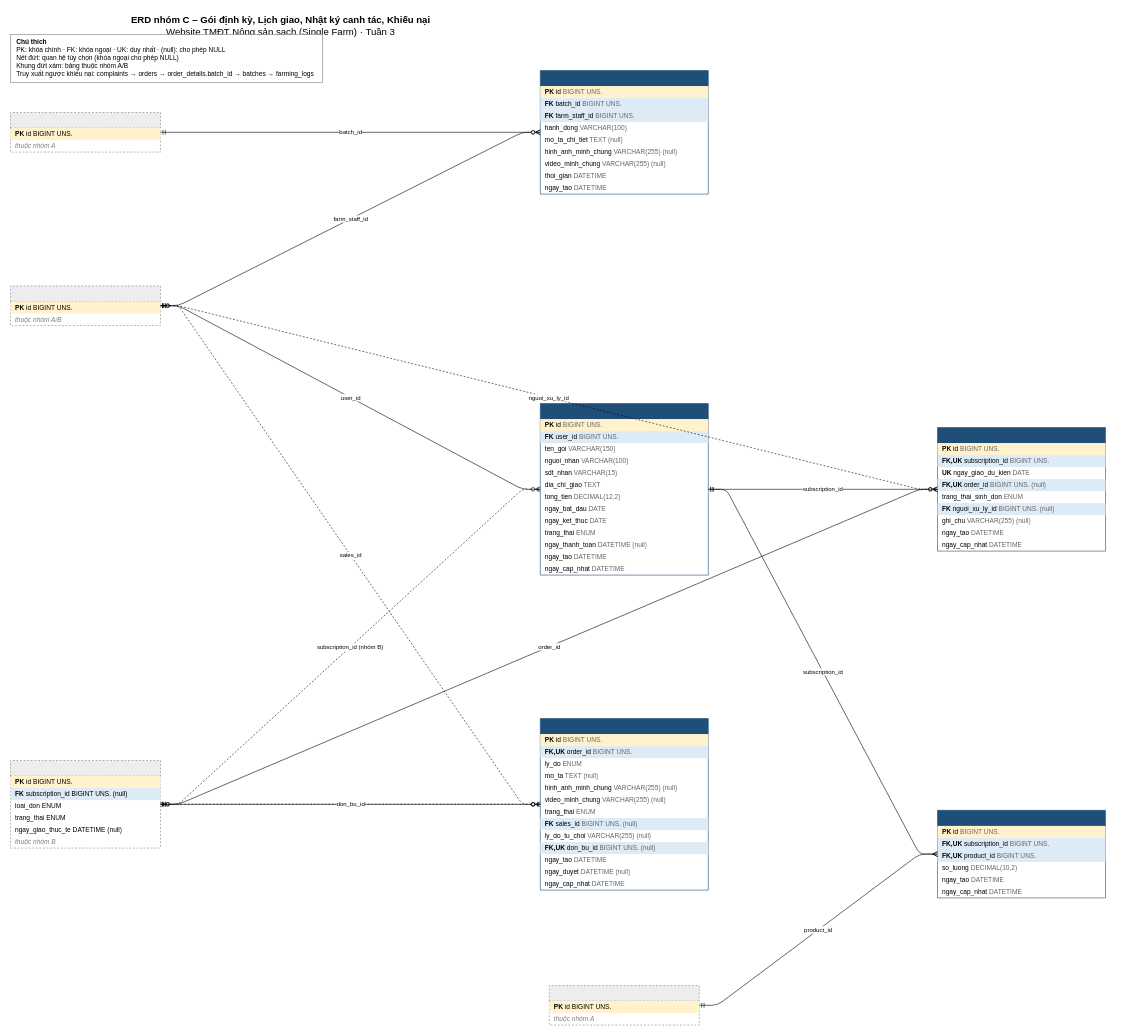
The diagram is 1130 pixels wide and 1036 high, and some of its shapes have lost their labels. Each missing label, with the box of its shape:
batches: (10, 112, 160, 152)
complaints – Khiếu nại và đổi trả: (540, 718, 708, 890)
delivery_schedules – Lịch giao hàng định kỳ: (937, 427, 1106, 551)
farming_logs – Nhật ký canh tác: (540, 70, 708, 194)
orders: (10, 760, 160, 848)
products: (549, 985, 699, 1025)
subscription_items – Sản phẩm trong gói (bảng bổ sung): (937, 810, 1106, 898)
subscriptions – Gói định kỳ (Subscription): (540, 403, 708, 575)
users: (10, 285, 160, 326)
